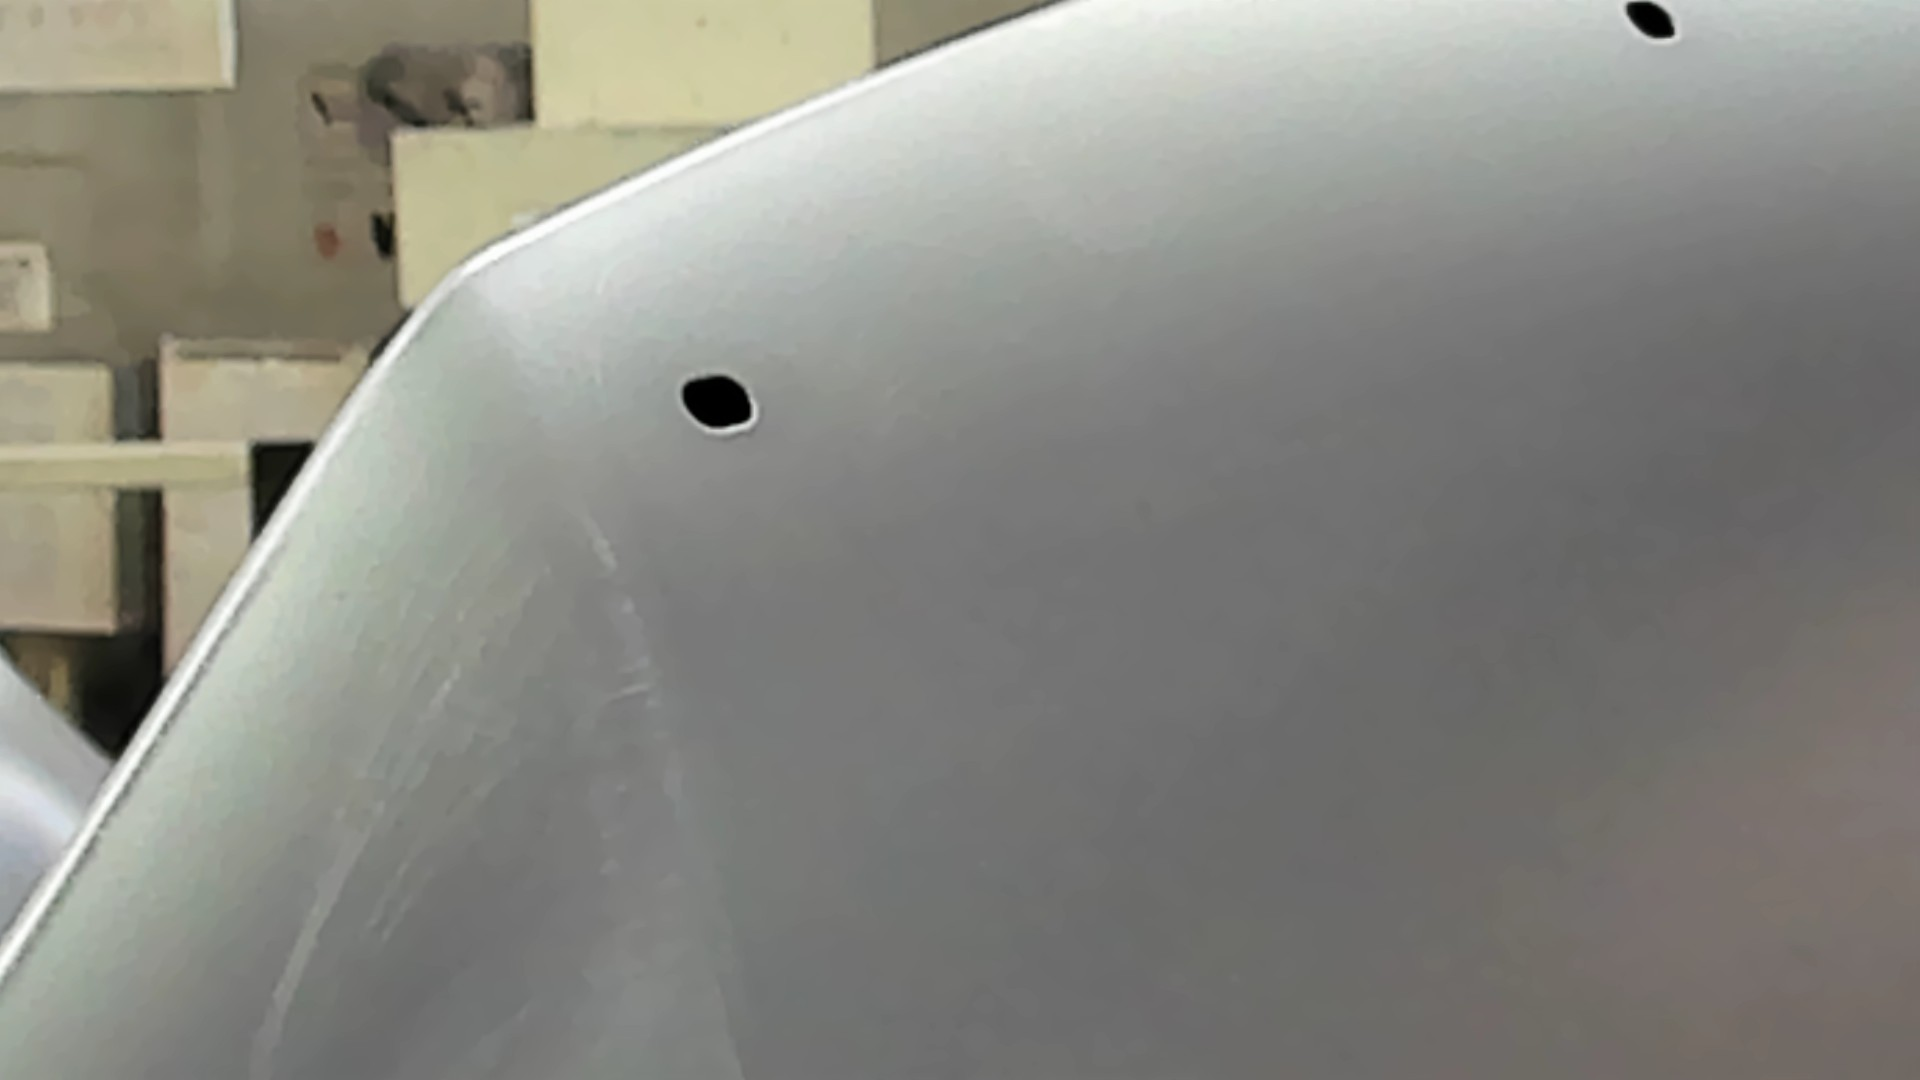amorfo: (674, 368, 760, 440), (1618, 1, 1683, 45)
